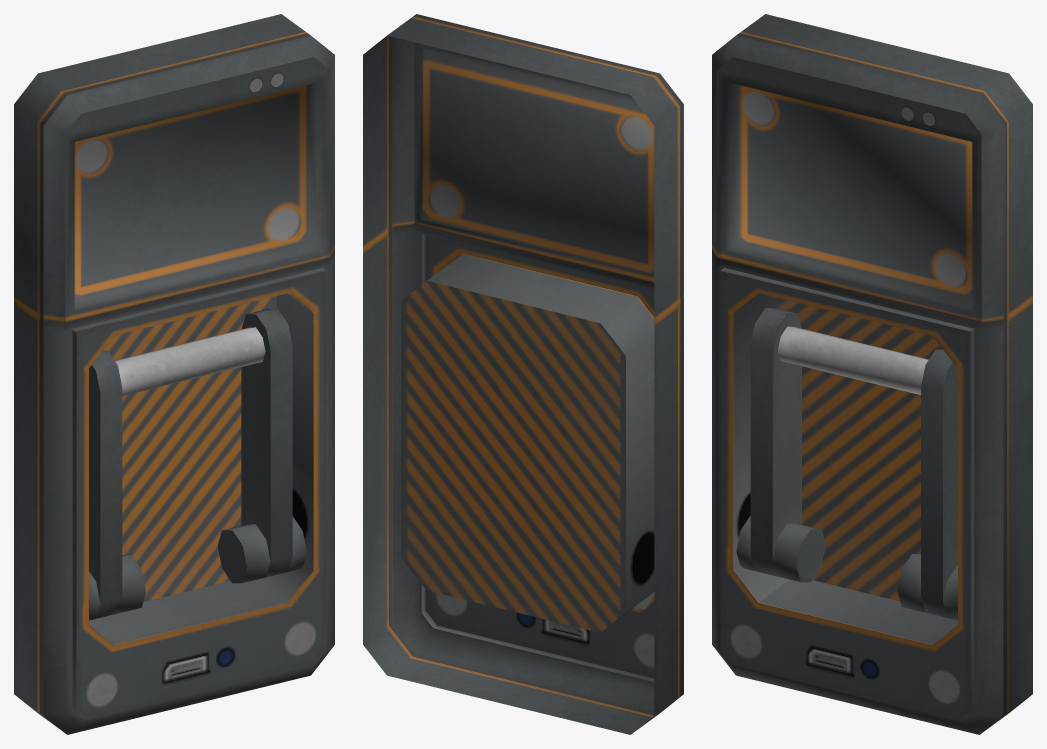
Rendered from Lever B2A.fbx.
The picture shows the model from 3 angles, left to right: view 1: azimuth 30°, elevation 25°; view 2: azimuth 150°, elevation 25°; view 3: azimuth 330°, elevation 25°; orthographic projection.
Visible parts, largest first — view 1: Lever B2A, LeverHandle B2A; view 2: Lever B2A; view 3: Lever B2A, LeverHandle B2A.
Boxes of the visible parts, x1,y1,x2,y2 form: Lever B2A: [14, 14, 334, 734]; LeverHandle B2A: [89, 309, 306, 620]; Lever B2A: [363, 14, 683, 734]; Lever B2A: [712, 14, 1032, 734]; LeverHandle B2A: [736, 308, 957, 620].
Size of the model in its own units: 15.6 by 32.75 by 3.87.
Materials: 3 (1 with a texture image).
